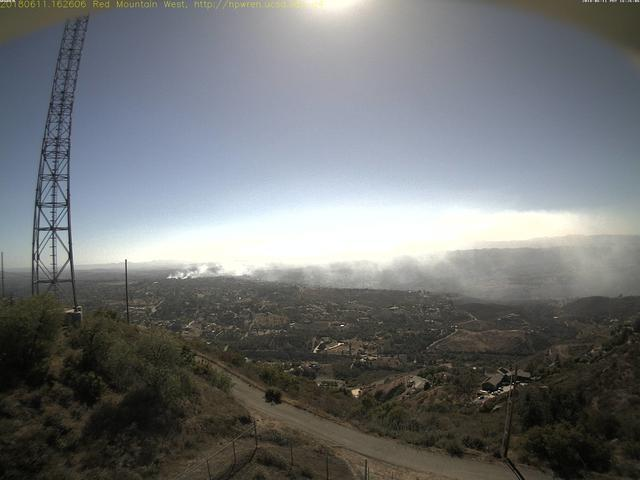smoke: (163, 211, 636, 303)
